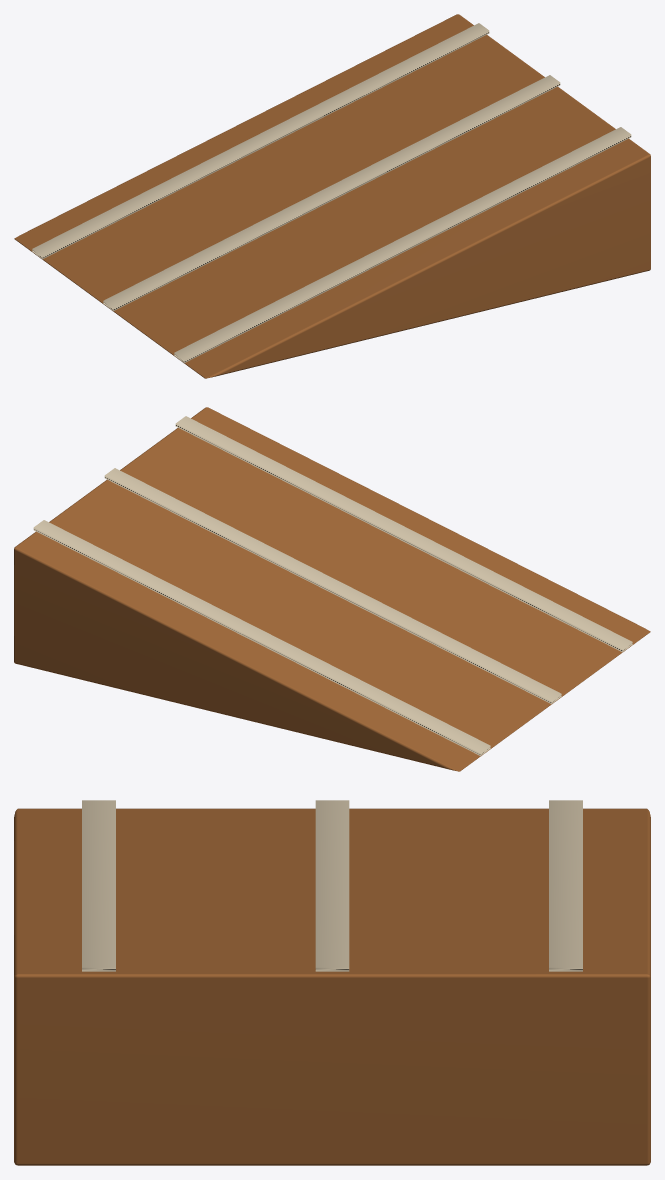
File: ramp.glb
3 views of the same model, one above another, from view 1: azimuth 30°, elevation 25°; view 2: azimuth 150°, elevation 25°; view 3: azimuth 270°, elevation 25° (orthographic). The views are drawn at different scales.
Parts seen in each view (by area): view 1: ramp; view 2: ramp; view 3: ramp.
Part boxes in pixels (box(x1,y1,x2,y2)): ramp: box(14, 14, 650, 378); ramp: box(14, 407, 650, 771); ramp: box(14, 800, 650, 1165).
Size of the model in its own units: 4 by 1.04 by 3.
